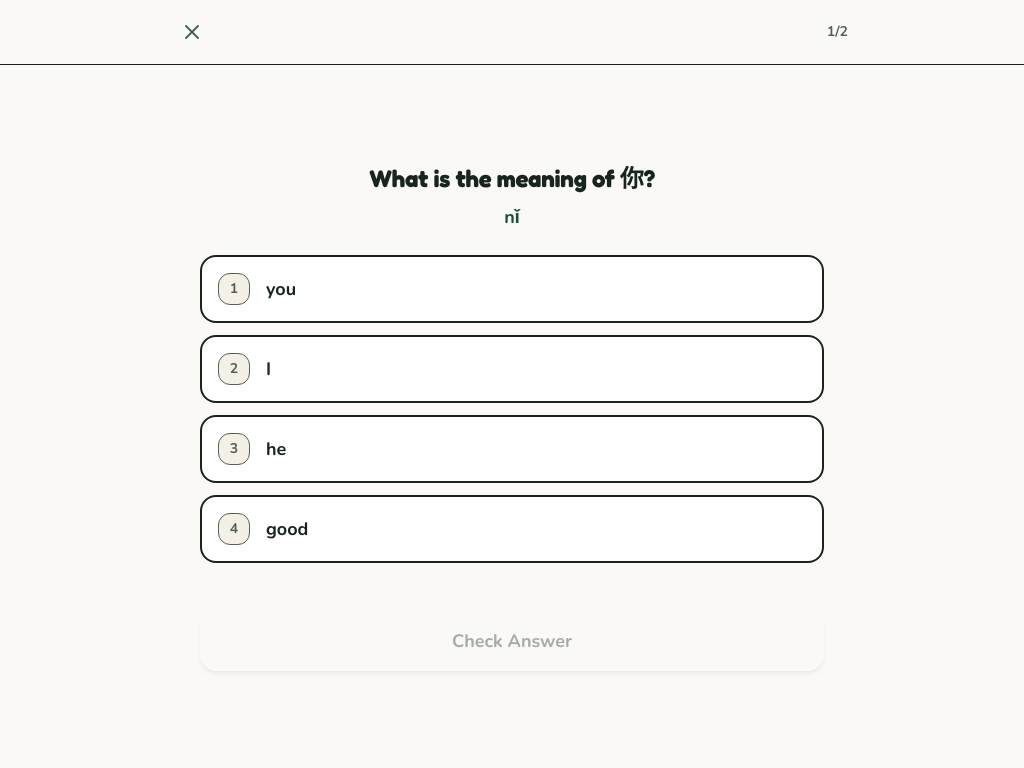
ExerciseRunner Component Suite › renders MCQ exercise, handles choice selection and checking
Expected: the heading "What is the meaning of 你?" is shown, [369, 164, 655, 192]
Expected: the text "nǐ" is shown, [504, 204, 520, 228]
# Select correct option "you"
Click the text "you" at (281, 288), box [266, 274, 296, 302]
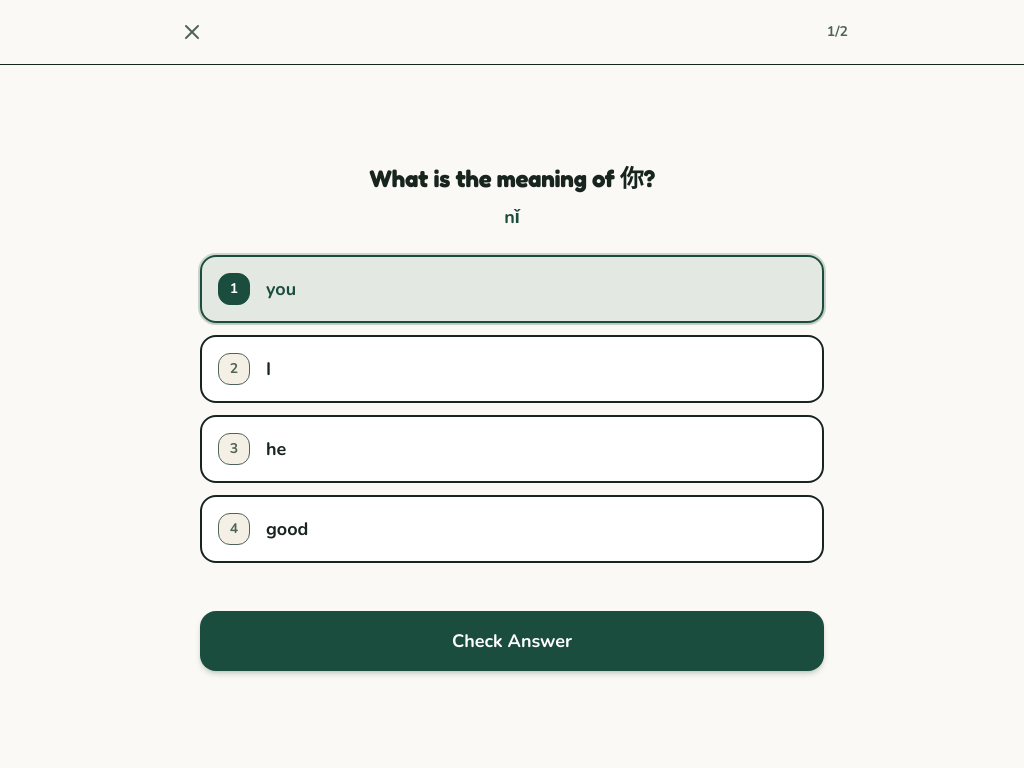
# Check button should now be enabled
Click the button "Check Answer" at (512, 640), box [200, 610, 824, 670]
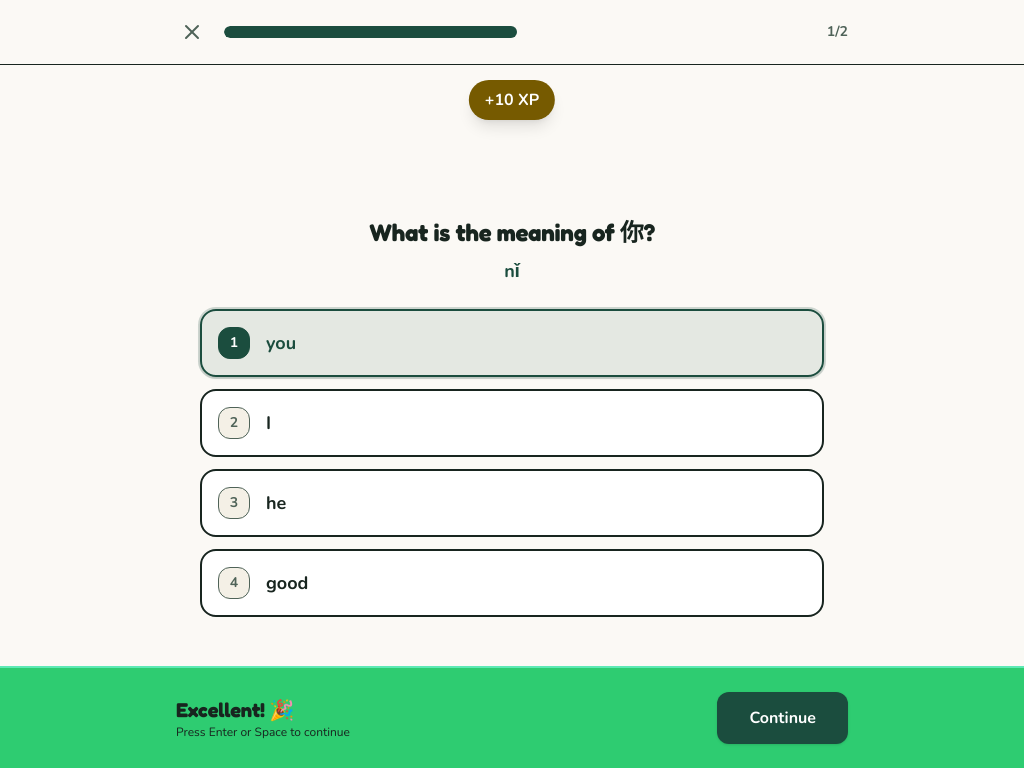
Expected: the text "Excellent! 🎉" is shown, [176, 698, 294, 722]
